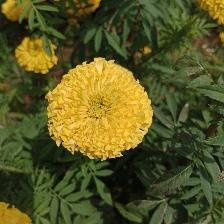marigold: (47, 57, 155, 162)
